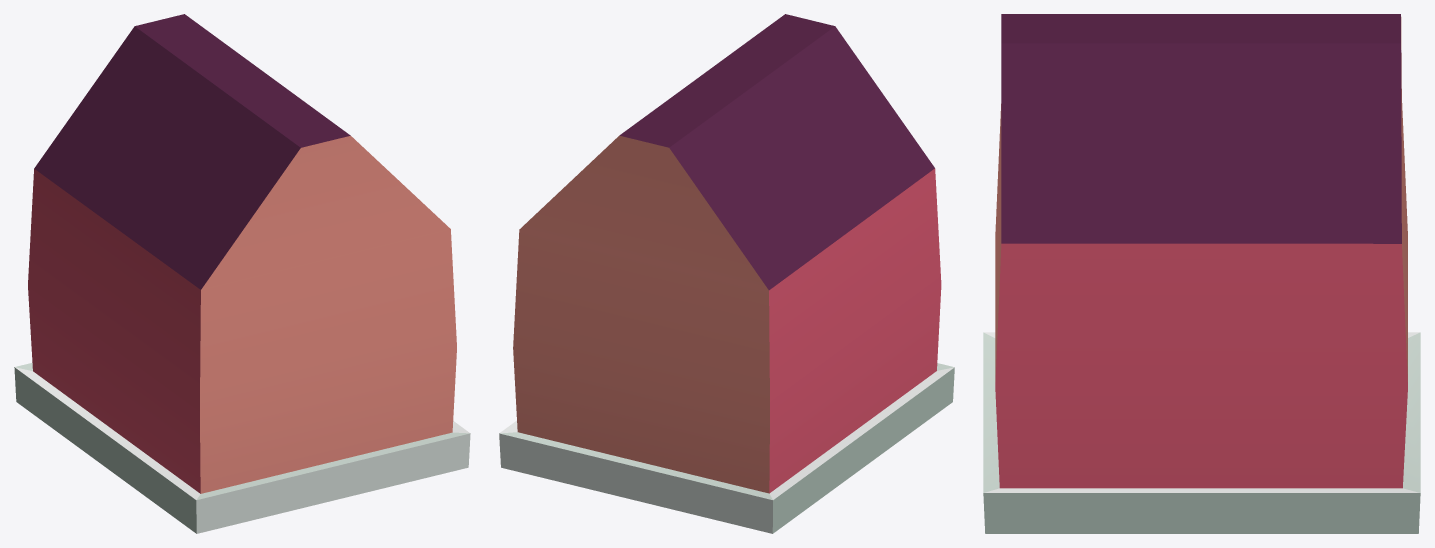
The model's file is House01_Pink_White.glb.
3 views of the same model, side by side, from view 1: azimuth 30°, elevation 25°; view 2: azimuth 150°, elevation 25°; view 3: azimuth 270°, elevation 25° (orthographic). The views are drawn at different scales.
Visible parts, largest first — view 1: House01_Pink_White; view 2: House01_Pink_White; view 3: House01_Pink_White.
Boxes of the visible parts, left/top/right/bottom form: House01_Pink_White: left=14, top=14, right=470, bottom=533; House01_Pink_White: left=499, top=14, right=954, bottom=533; House01_Pink_White: left=983, top=14, right=1420, bottom=533.
Size of the model in its own units: 2.04 by 2.51 by 2.34.
Materials: 1 (1 with a texture image).
